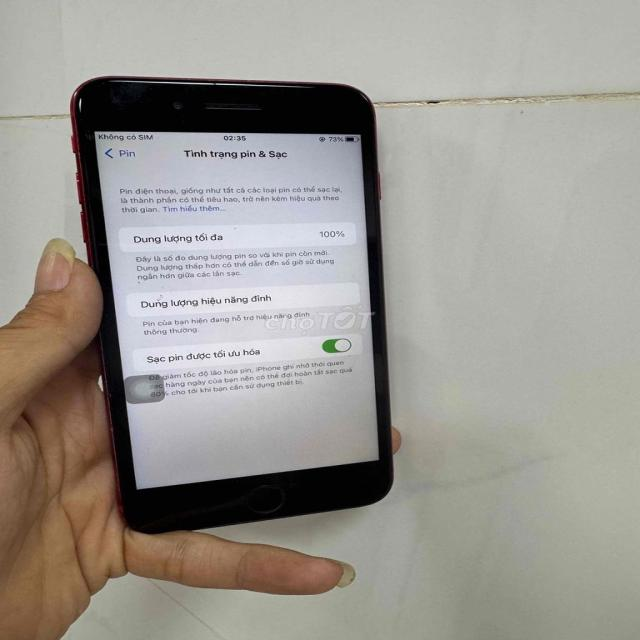scratch: (58, 64, 406, 539)
